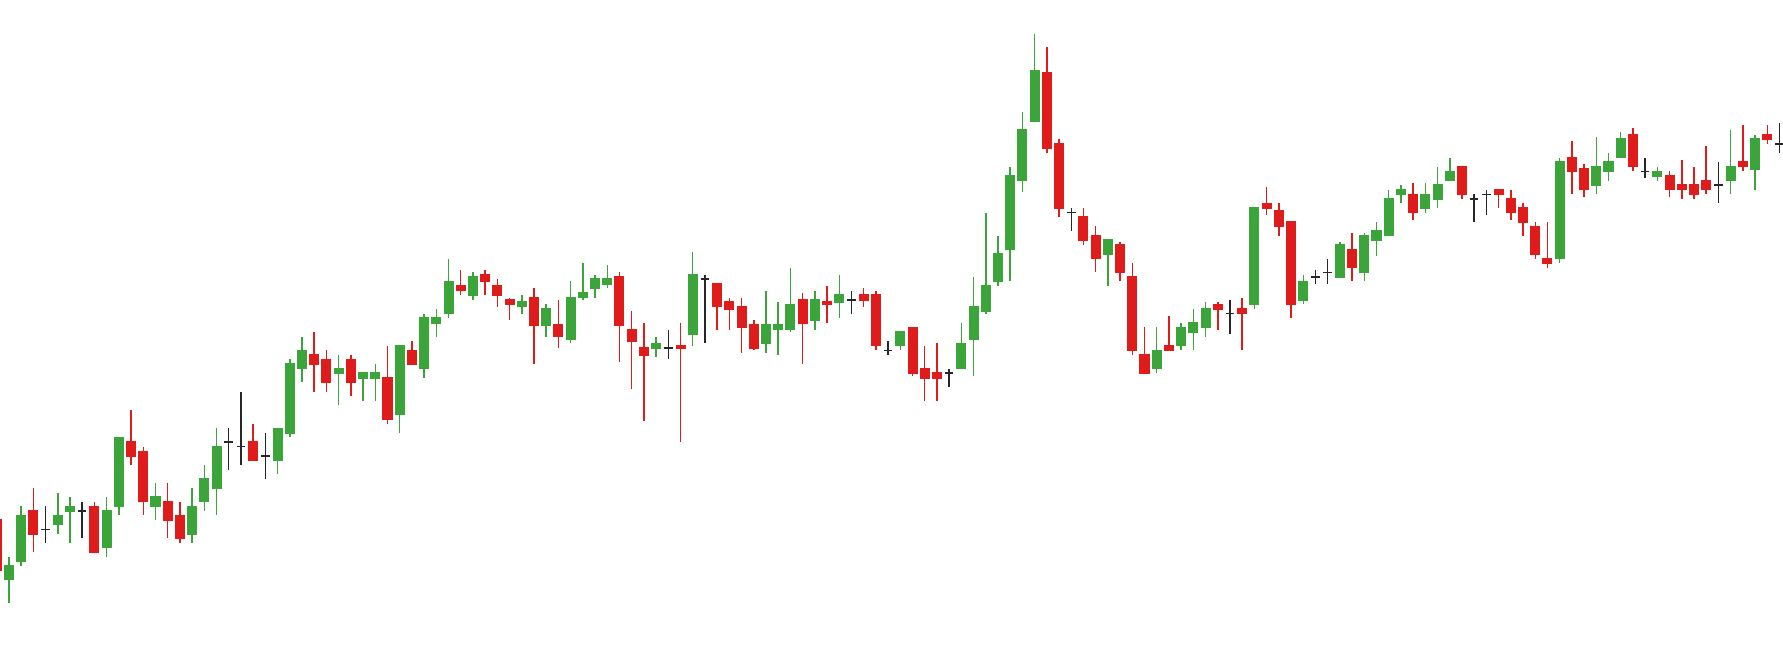sell: (476, 264, 590, 318)
